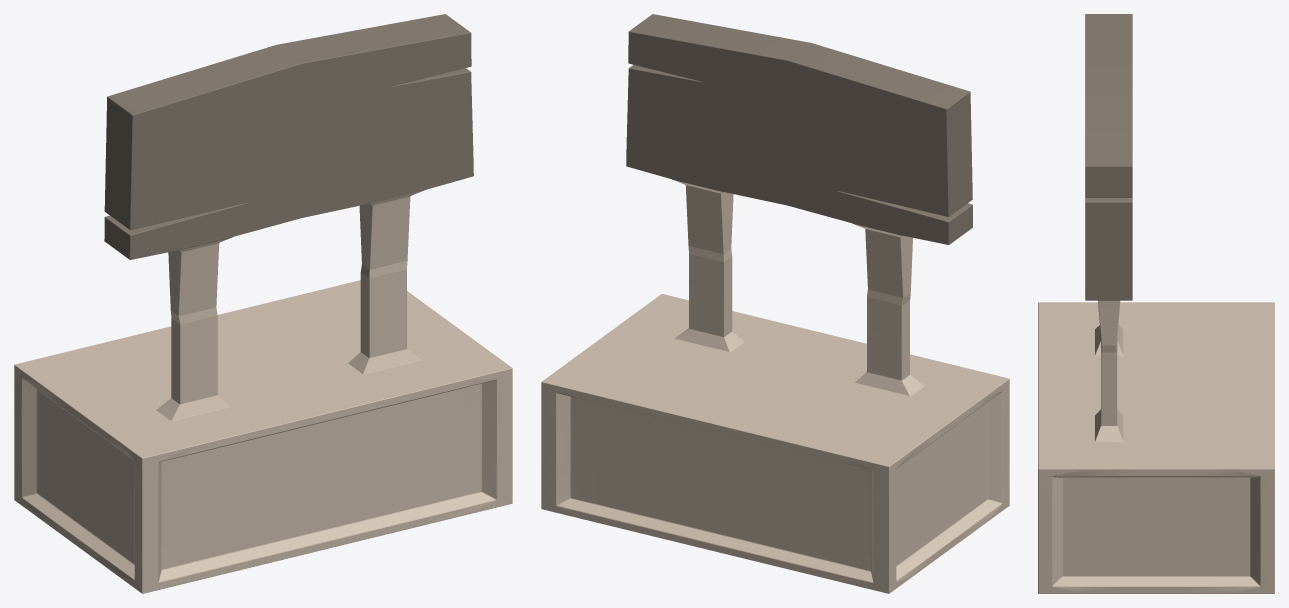
Rendered from delivery.fbx.
The picture shows the model from 3 angles, left to right: view 1: azimuth 30°, elevation 25°; view 2: azimuth 150°, elevation 25°; view 3: azimuth 270°, elevation 25°; orthographic projection. The views are drawn at different scales.
Parts seen in each view (by area): view 1: pCube1; view 2: pCube1; view 3: pCube1.
Boxes of the visible parts, bbox=[...] form: pCube1: bbox=[14, 14, 512, 593]; pCube1: bbox=[541, 14, 1009, 593]; pCube1: bbox=[1038, 14, 1274, 593].
Bounding box in the file's own units: 2 × 2.41 × 1.2.
